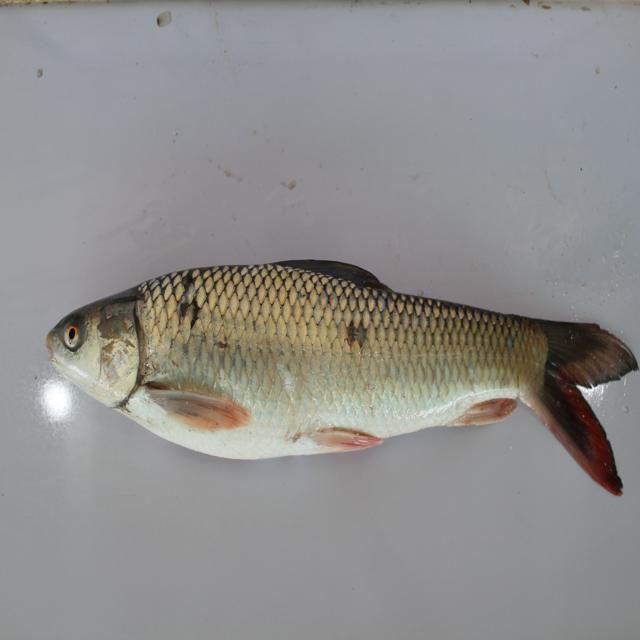Mori: (39, 248, 632, 523)
